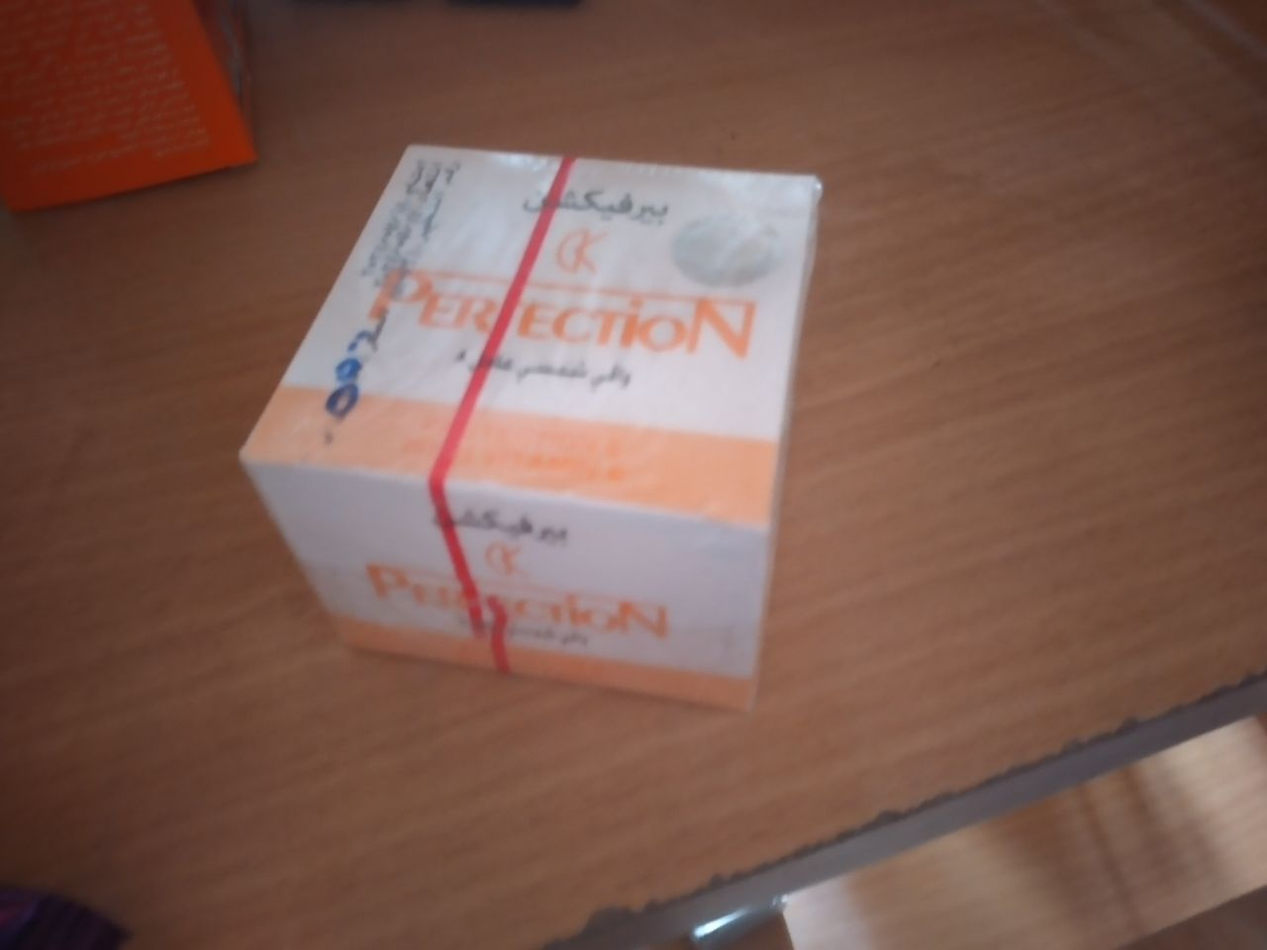Medicine: (238, 139, 839, 708)
